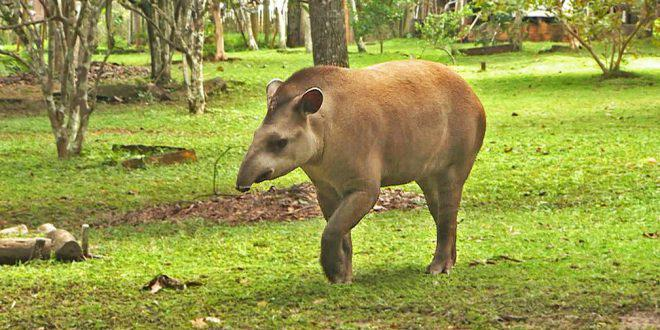Anta: (231, 52, 497, 292)
